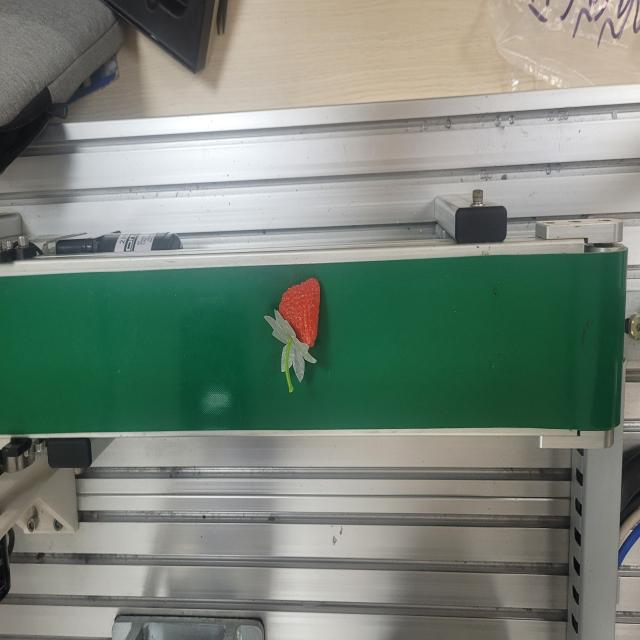Small Ripe Strawberry: (264, 274, 323, 394)
